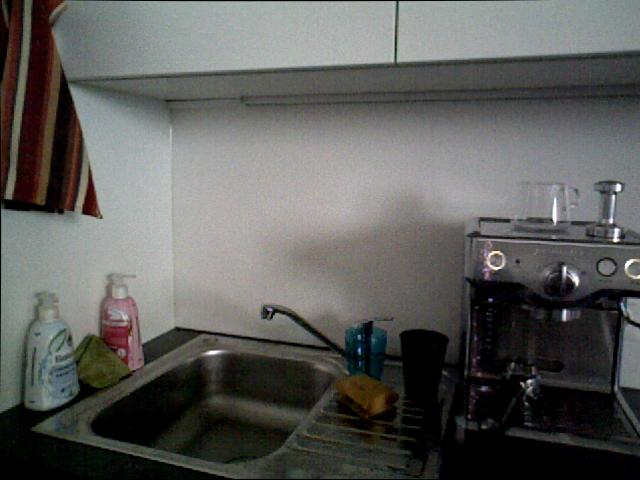bench: (16, 286, 85, 413), (90, 268, 154, 372)
couch: (27, 325, 440, 480)
handbag: (510, 178, 583, 237), (399, 328, 449, 402), (344, 325, 387, 380)
